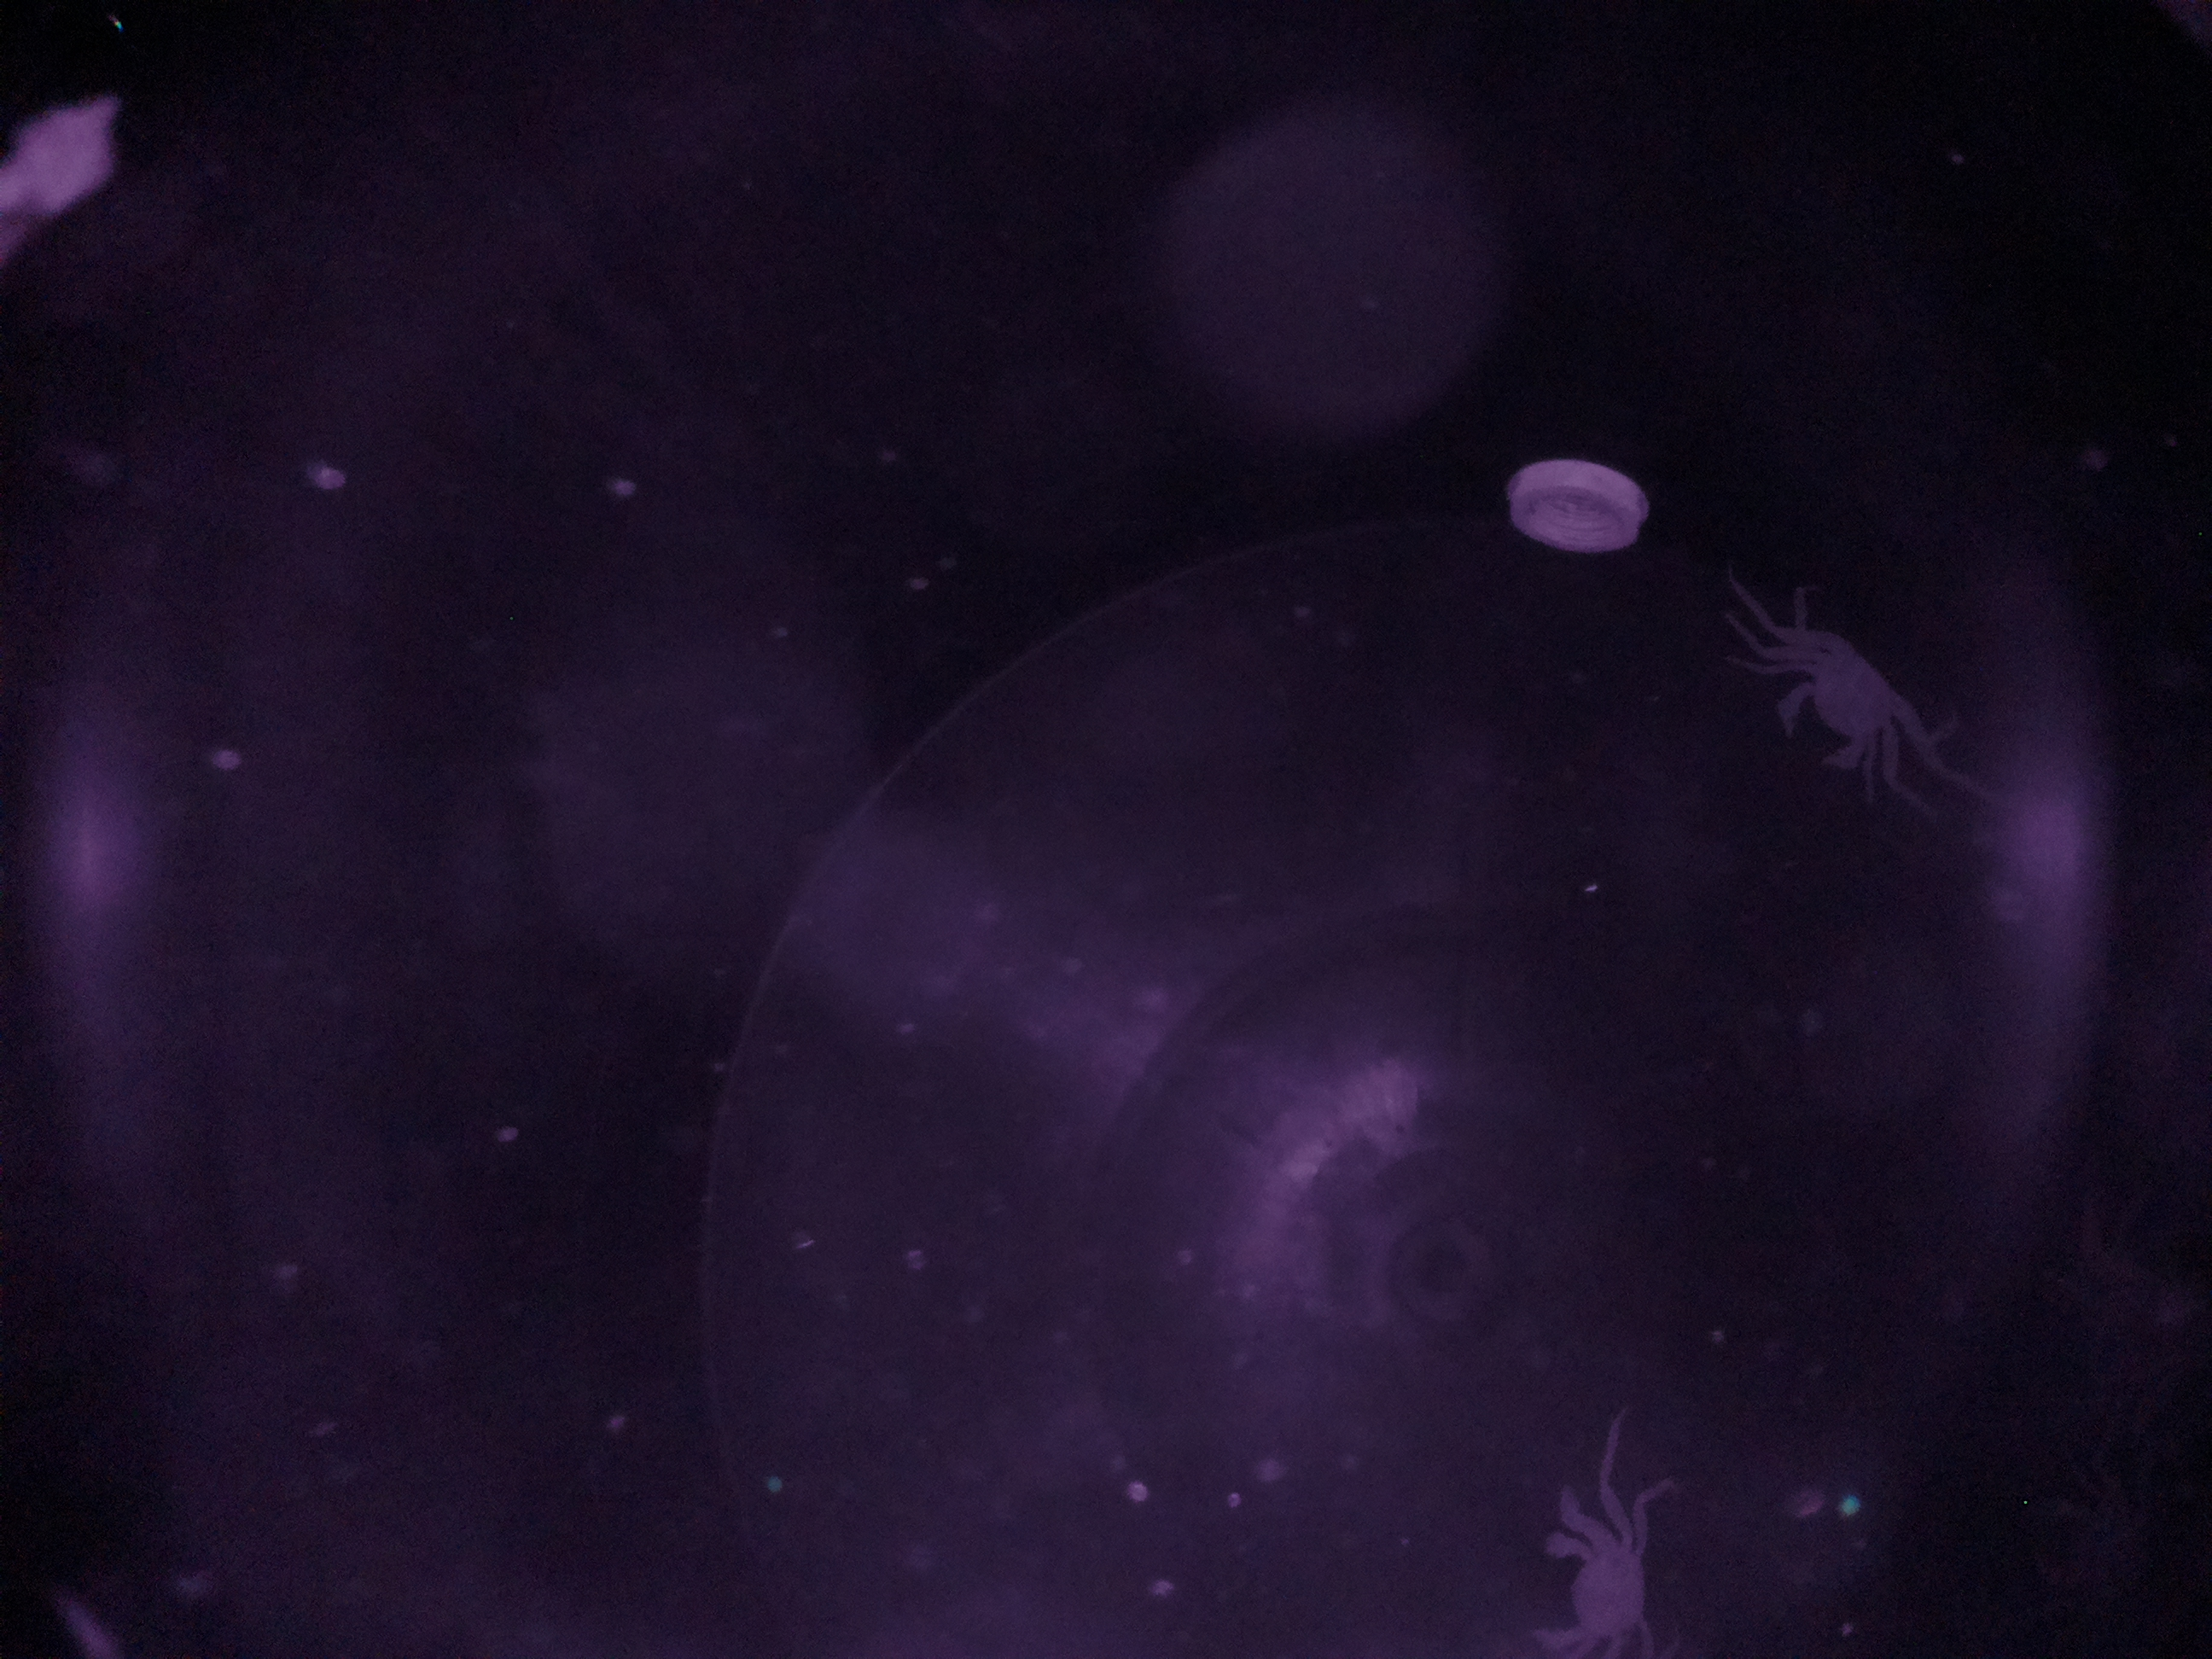Crab: (1750, 603, 1914, 824), (1512, 1495, 1663, 1659)
